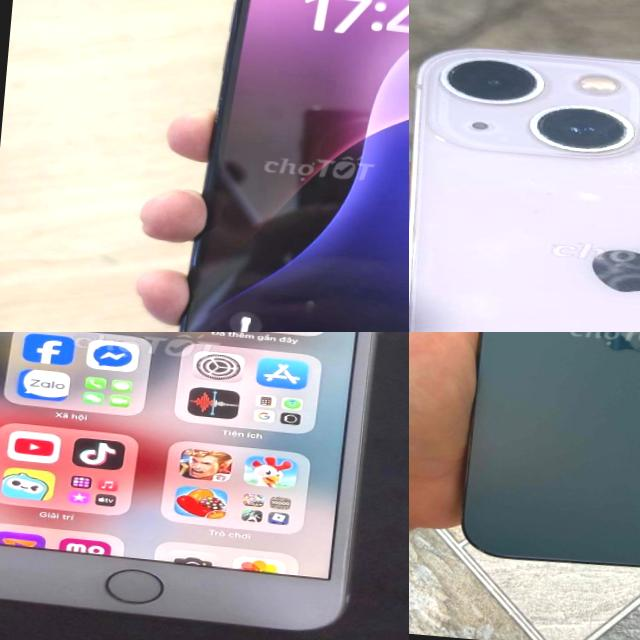gen_11: (136, 0, 409, 332)
gen_12_13: (409, 28, 640, 332), (453, 332, 640, 583)
gen_7_8: (0, 332, 404, 635)
